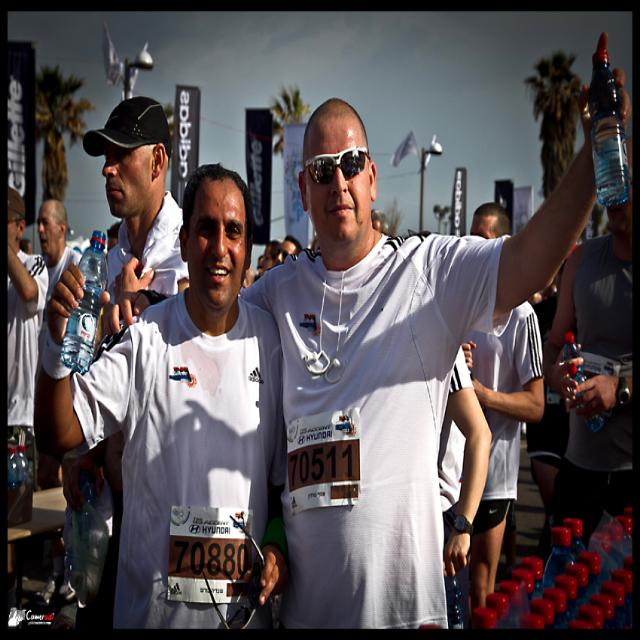Bib: (171, 538, 246, 582), (287, 446, 355, 488)
